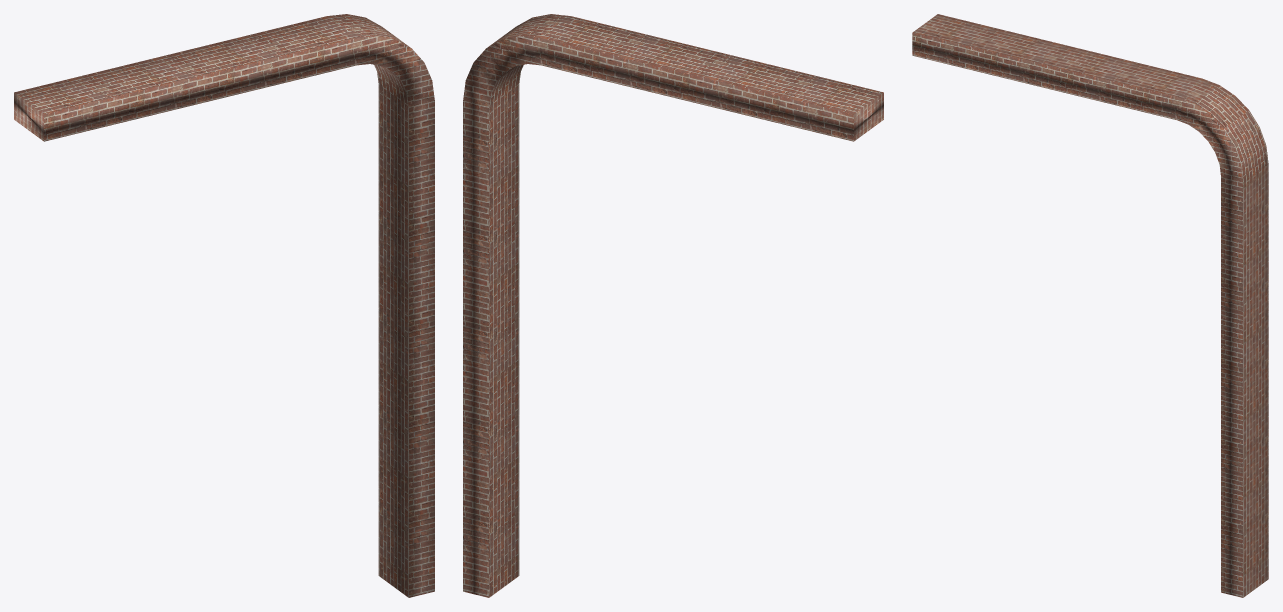
The model's file is wall.DAE.
The picture shows the model from 3 angles, left to right: view 1: azimuth 30°, elevation 25°; view 2: azimuth 150°, elevation 25°; view 3: azimuth 330°, elevation 25°; orthographic projection. The views are drawn at different scales.
Parts seen in each view (by area): view 1: adventureplaygound01a; view 2: adventureplaygound01a; view 3: adventureplaygound01a.
Part boxes in pixels (x1,y1,x2,y2): adventureplaygound01a: (14, 14, 434, 597); adventureplaygound01a: (463, 14, 883, 597); adventureplaygound01a: (912, 14, 1268, 597).
Bounding box in the file's own units: 295 × 413 × 39.37.
